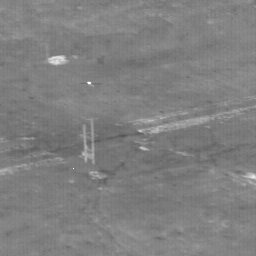aircraft: (88, 82, 90, 84)
